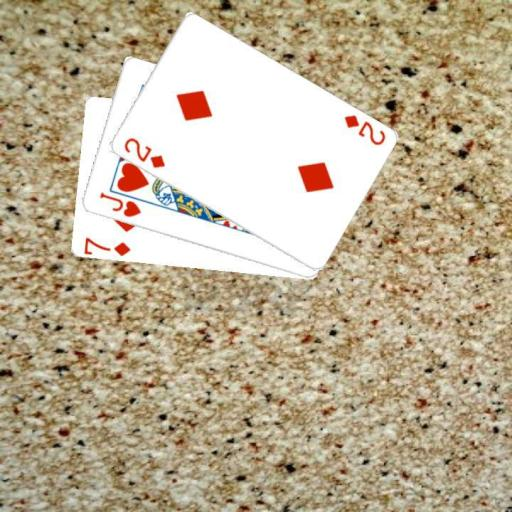2D: (121, 134, 167, 170), (341, 112, 387, 147)
7D: (81, 234, 132, 257)
JH: (96, 189, 142, 219)
